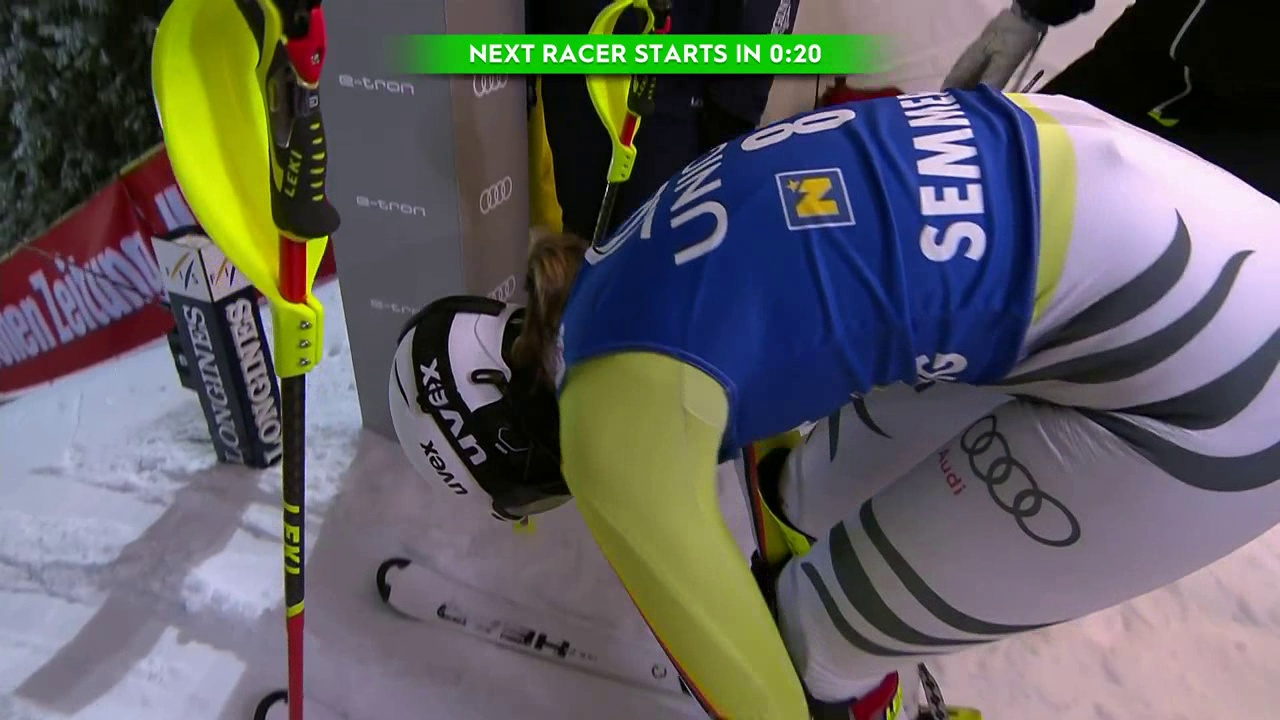audi: (915, 404, 1102, 565), (473, 172, 521, 224)
etron: (344, 189, 429, 221)
kronenzeitung: (3, 232, 151, 400)
longines: (178, 306, 292, 463)
